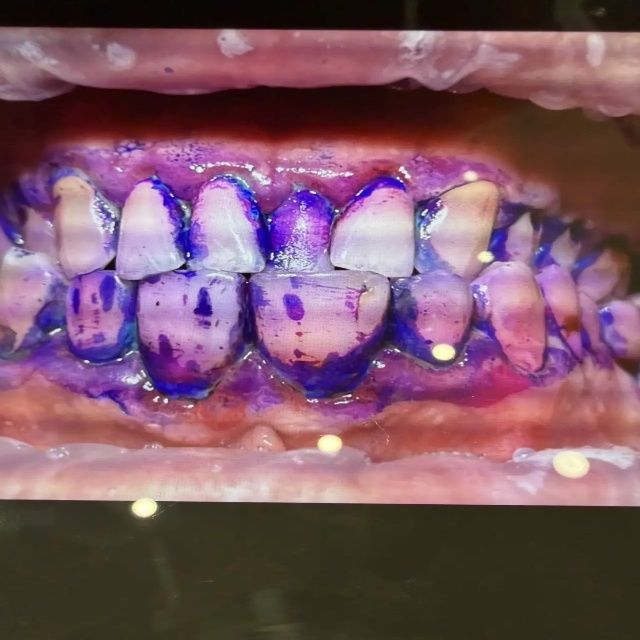clean_tooth: (118, 484, 181, 517), (554, 452, 588, 476)
plaque: (0, 159, 639, 389)
